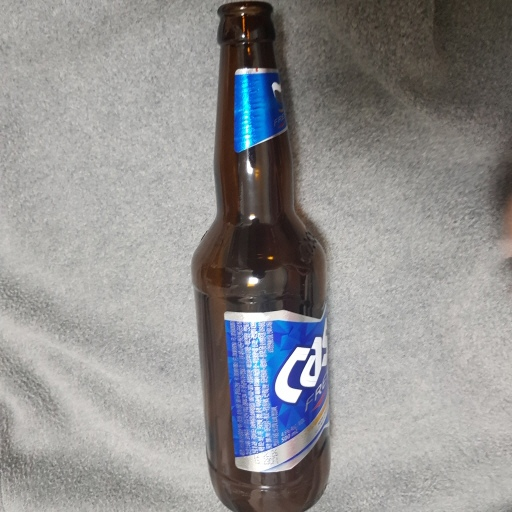Glass_1: (188, 2, 340, 512)
